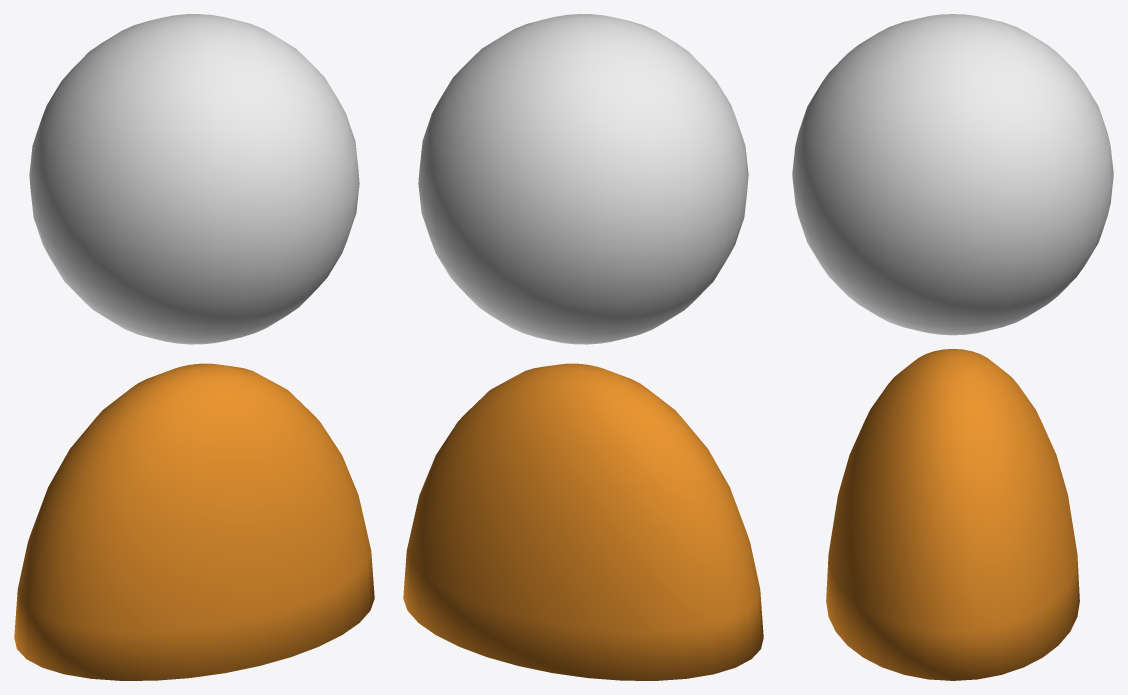
Rendered from Player.fbx.
3 renders of one model, left to right at view 1: azimuth 30°, elevation 25°; view 2: azimuth 150°, elevation 25°; view 3: azimuth 270°, elevation 25°, orthographic. The views are drawn at different scales.
Visible parts, largest first — view 1: Sphere.001; view 2: Sphere.001; view 3: Sphere.001.
Boxes of the visible parts, x1=… form: Sphere.001: x1=14, y1=14, x2=374, y2=680; Sphere.001: x1=403, y1=14, x2=763, y2=680; Sphere.001: x1=792, y1=14, x2=1113, y2=680.
Bounding box in the file's own units: 235 × 393 × 200.
